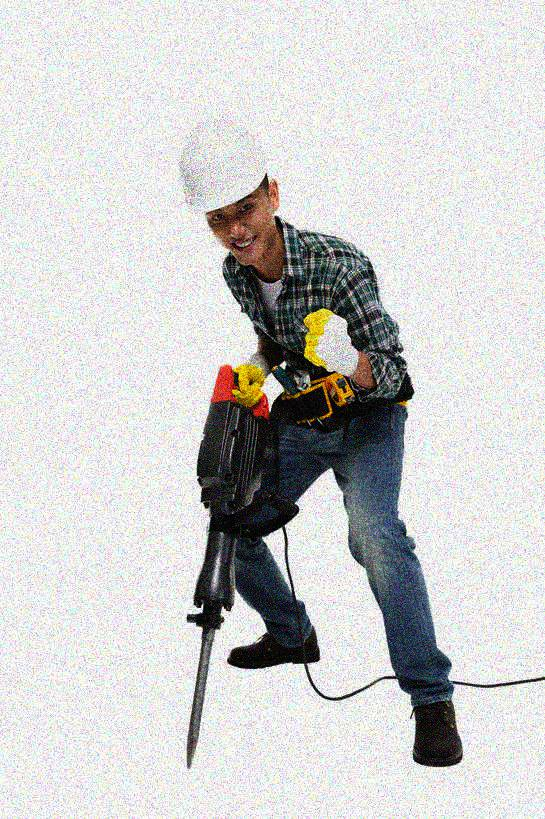helmet: (176, 116, 286, 266)
